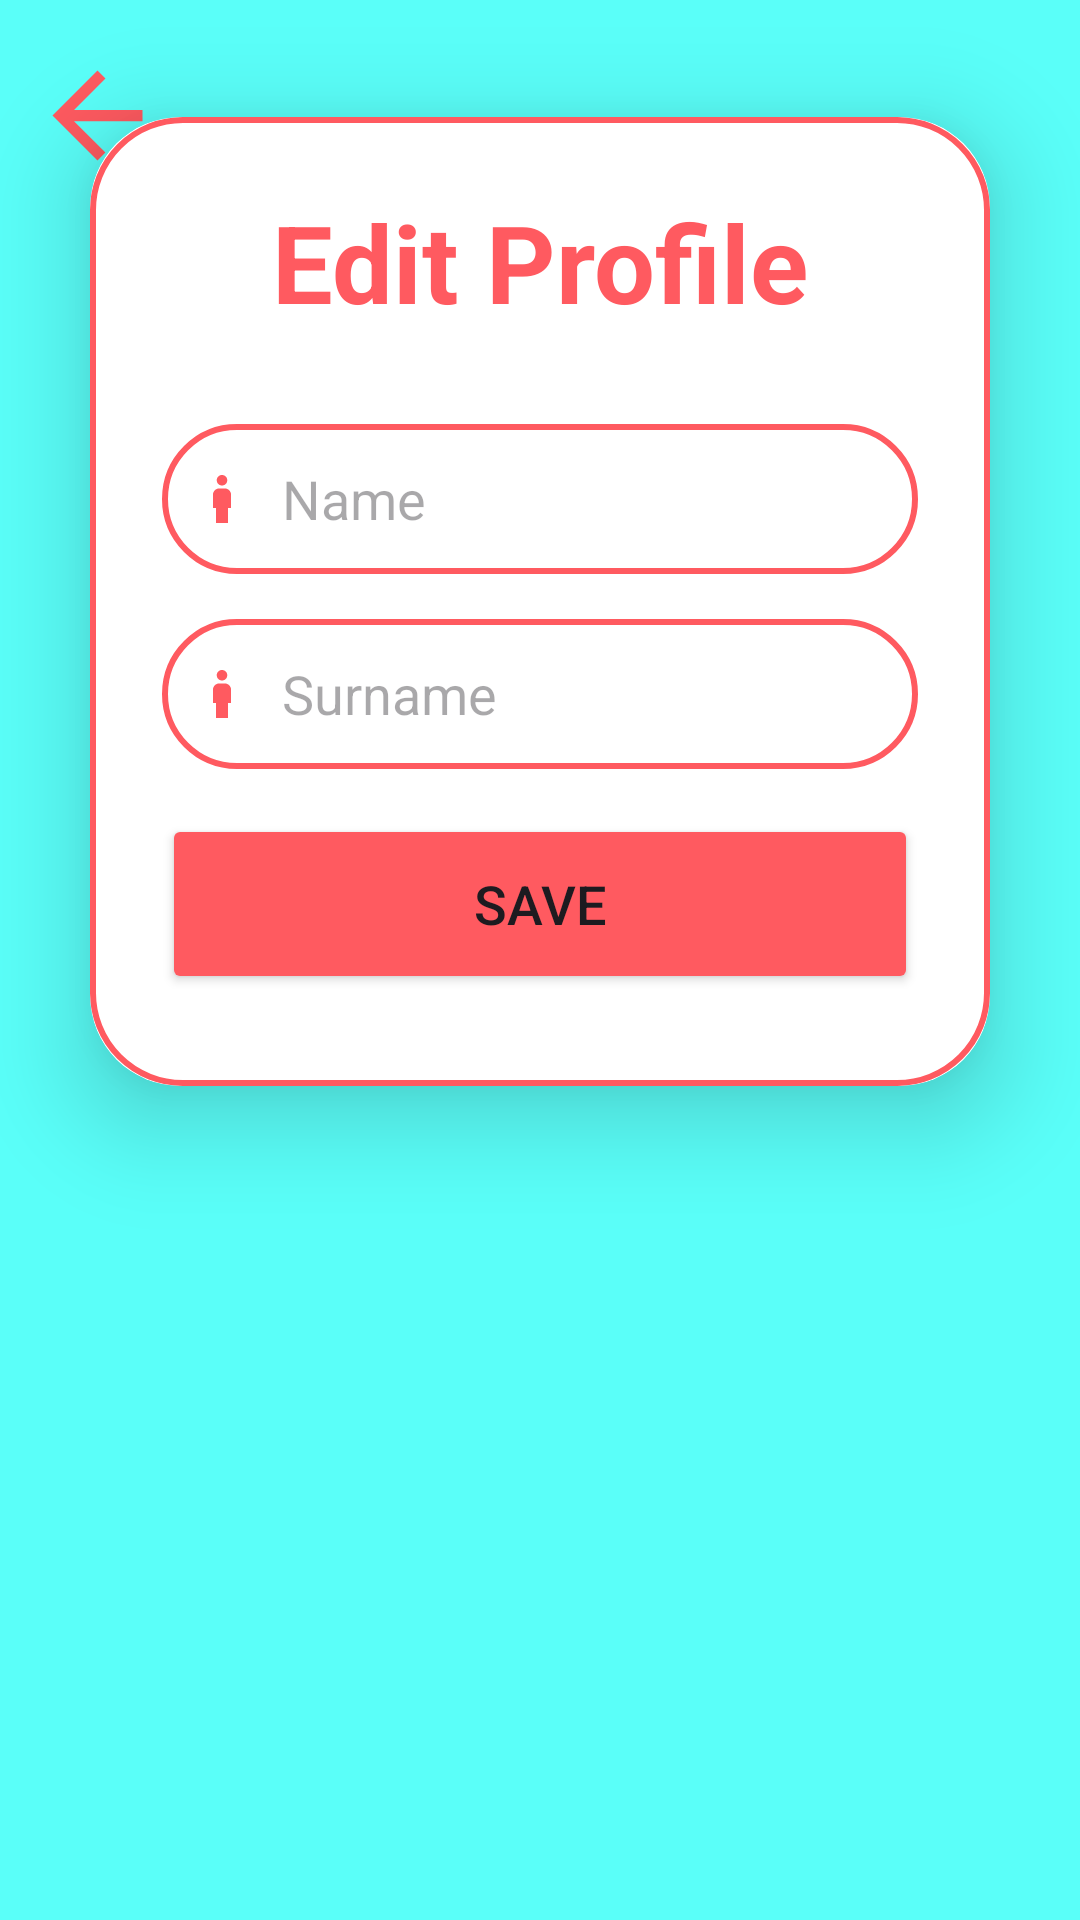

Where icons sit on this 1080 × 1920 app screen, as detection(x1, y1, x2, y2):
back: detection(52, 70, 181, 183)
